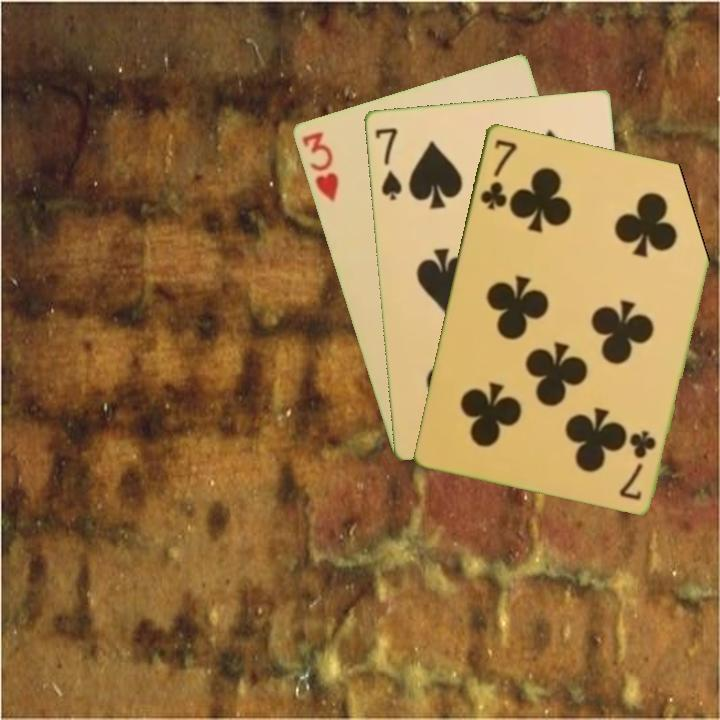3h: (298, 128, 341, 205)
7c: (476, 135, 520, 213), (618, 426, 659, 503)
7s: (371, 124, 405, 203)
